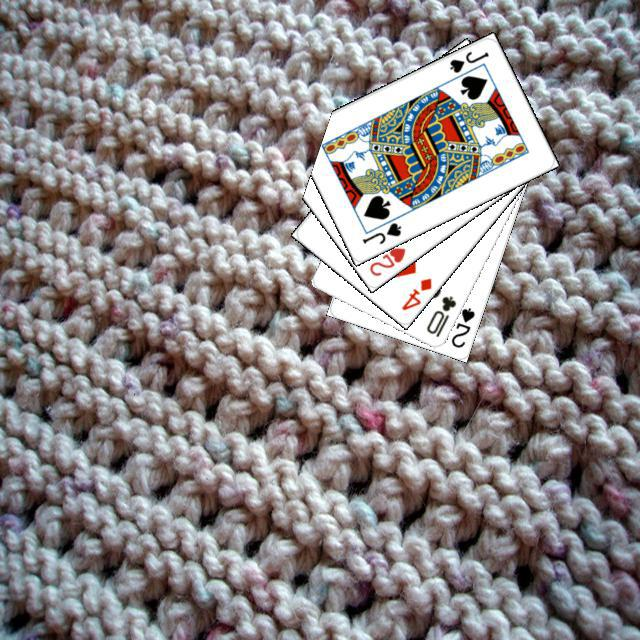10c: (421, 291, 458, 339)
2h: (364, 242, 407, 278)
2s: (446, 303, 477, 350)
4d: (396, 273, 434, 312)
Js: (357, 217, 403, 246), (445, 46, 491, 75)
